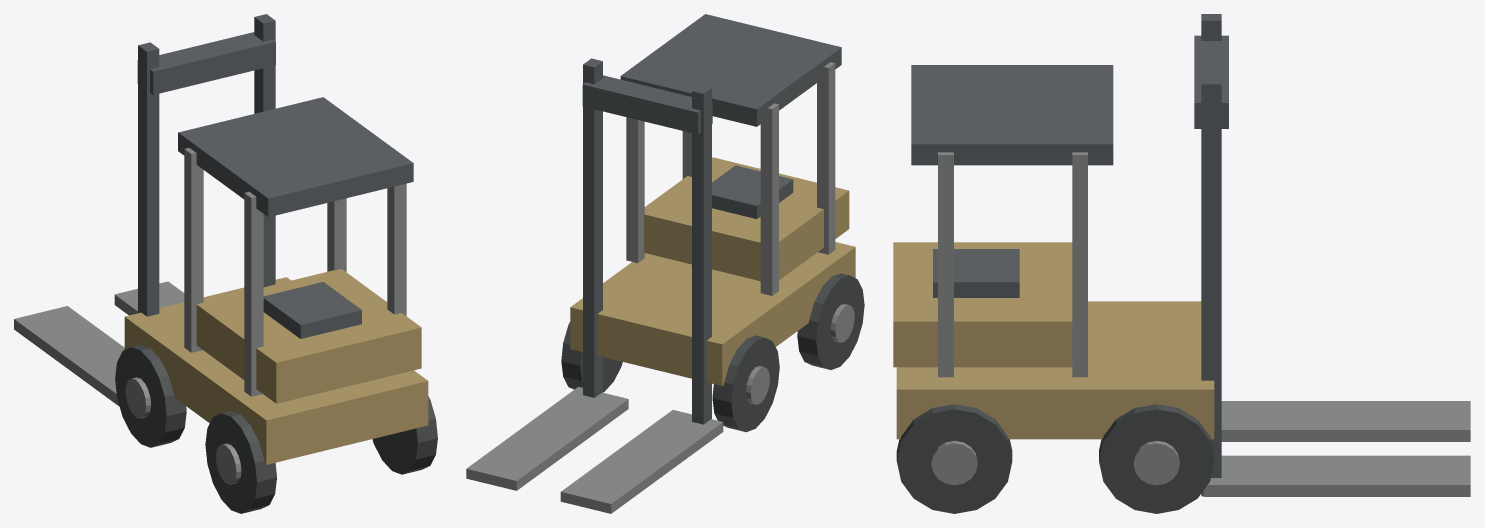
Rendered from forklift.glb.
The picture shows the model from 3 angles, left to right: view 1: azimuth 30°, elevation 25°; view 2: azimuth 150°, elevation 25°; view 3: azimuth 270°, elevation 25°; orthographic projection. The views are drawn at different scales.
Parts seen in each view (by area): view 1: box_0, box_2, box_1, box_15, box_16, box_19, cylinder_7, cylinder_5, box_20, box_3, box_4, box_10 (+6 smaller); view 2: box_0, box_2, box_1, box_16, box_18, box_15, box_17, box_19, cylinder_5, cylinder_7, box_3, box_4 (+6 smaller); view 3: box_0, box_2, box_1, box_18, box_16, cylinder_13, cylinder_11, box_17, box_9, box_10, box_20, box_19 (+2 smaller).
Part boxes in pixels (x1,y1,x2,y2): box_0: [124, 277, 428, 464]; box_2: [178, 97, 413, 217]; box_1: [196, 269, 421, 403]; box_15: [138, 42, 159, 316]; box_16: [14, 306, 124, 406]; box_19: [137, 32, 275, 94]; cylinder_7: [205, 411, 276, 513]; cylinder_5: [115, 344, 186, 447]; box_20: [263, 282, 361, 338]; box_3: [184, 148, 203, 352]; box_4: [244, 191, 263, 396]; box_10: [387, 183, 406, 315]; box_0: [570, 242, 855, 385]; box_2: [620, 14, 841, 126]; box_1: [644, 157, 849, 281]; box_16: [560, 410, 723, 513]; box_18: [466, 386, 628, 490]; box_15: [692, 85, 711, 424]; box_17: [583, 58, 602, 397]; box_19: [582, 75, 712, 134]; cylinder_5: [712, 335, 779, 432]; cylinder_7: [797, 273, 864, 369]; box_3: [760, 103, 778, 295]; box_4: [817, 62, 835, 254]; box_0: [896, 301, 1214, 439]; box_2: [911, 65, 1113, 165]; box_1: [893, 242, 1072, 367]; box_18: [1203, 455, 1470, 496]; box_16: [1221, 401, 1470, 441]; cylinder_13: [896, 404, 1012, 513]; cylinder_11: [1099, 404, 1214, 513]; box_17: [1201, 77, 1221, 496]; box_9: [1072, 152, 1087, 377]; box_10: [938, 152, 953, 377]; box_20: [933, 249, 1019, 297]; box_19: [1194, 35, 1228, 128].
Bounding box in the file's own units: 1.71 × 3.17 × 4.
